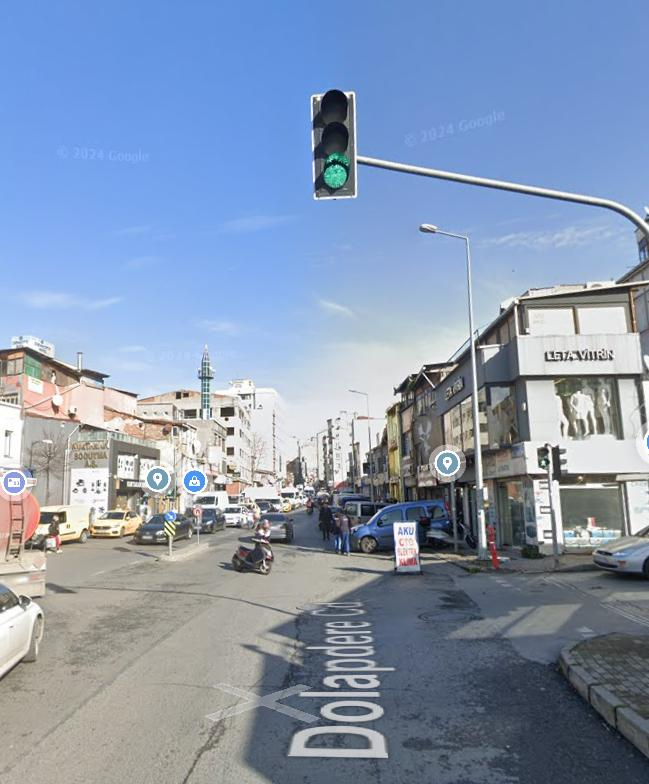greenlight: (314, 90, 357, 195)
